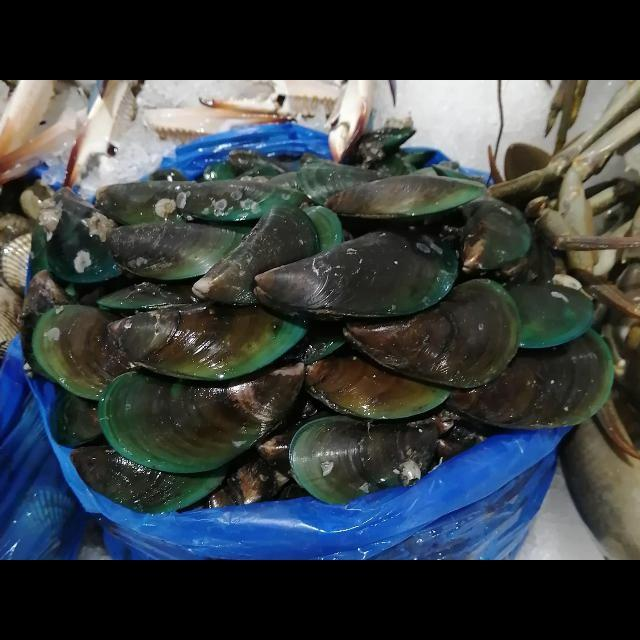left_over_food: (97, 365, 308, 473), (340, 280, 521, 392), (252, 230, 465, 322), (290, 412, 485, 508), (444, 331, 618, 433), (192, 204, 349, 308), (108, 305, 307, 386), (56, 444, 228, 516), (27, 187, 122, 291), (306, 355, 452, 422), (31, 305, 130, 401), (106, 222, 249, 283), (321, 173, 489, 219), (198, 439, 308, 509), (506, 278, 600, 352), (169, 178, 307, 227), (460, 198, 540, 282), (284, 156, 385, 204), (37, 384, 108, 452), (94, 180, 191, 227), (96, 282, 213, 316), (190, 152, 302, 184), (339, 127, 416, 173)
